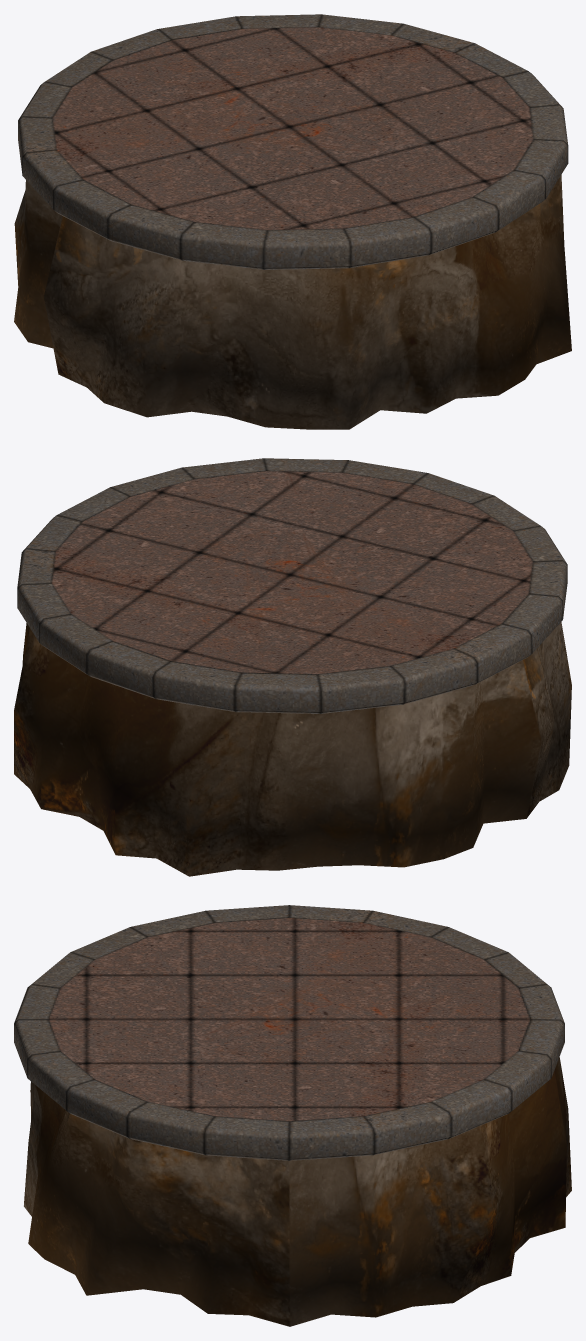
File: stage_LavaFloor.fbx
3 views of the same model, one above another, from view 1: azimuth 30°, elevation 25°; view 2: azimuth 150°, elevation 25°; view 3: azimuth 270°, elevation 25° (orthographic).
Parts seen in each view (by area): view 1: stage_lavafloor; view 2: stage_lavafloor; view 3: stage_lavafloor.
Part boxes in pixels (left/top/right/bottom): stage_lavafloor: left=14, top=14, right=571, bottom=429; stage_lavafloor: left=14, top=458, right=571, bottom=876; stage_lavafloor: left=14, top=905, right=571, bottom=1326.
Size of the model in its own units: 624 by 228 by 608.
1 material, 1 textured.
